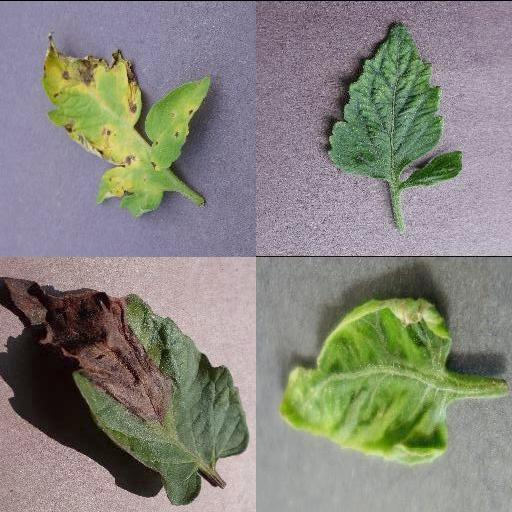Late Blight: (0, 275, 246, 505)
Mosaic Virus: (329, 18, 443, 182), (403, 148, 465, 186)
Septoria: (42, 30, 214, 214)
Yellow Leaf Curl Virus: (277, 297, 455, 463)
